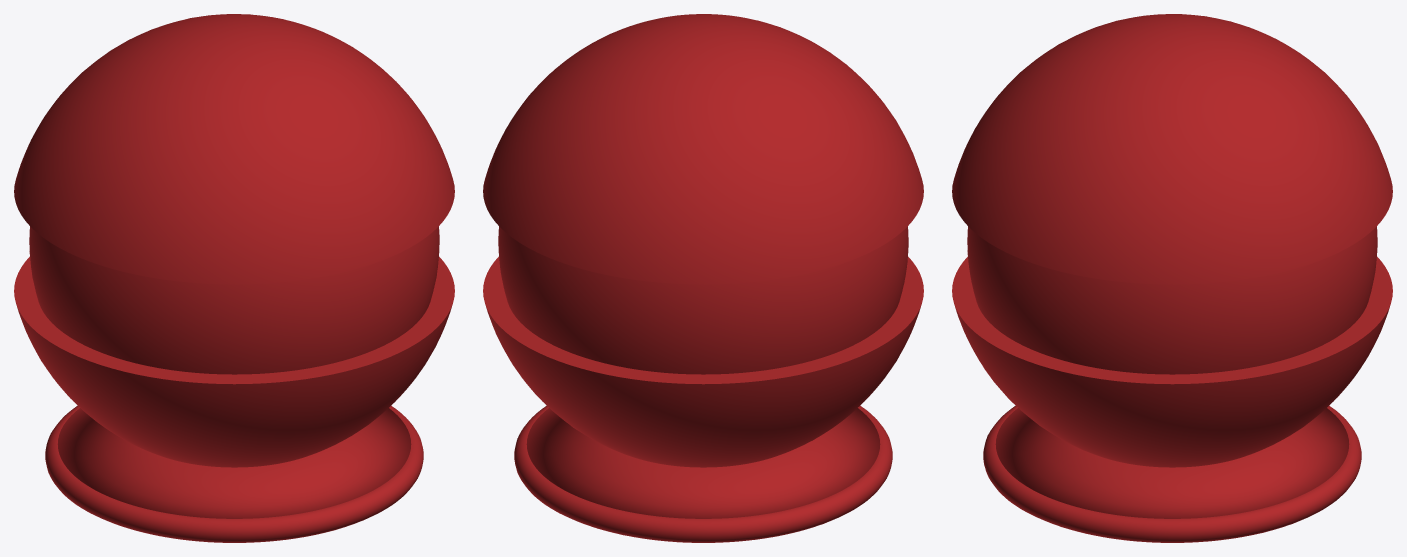
File: layer-coat.glb
3 renders of one model, left to right at view 1: azimuth 30°, elevation 25°; view 2: azimuth 150°, elevation 25°; view 3: azimuth 270°, elevation 25°, orthographic.
Visible parts, largest first — view 1: coat (×2); view 2: coat (×2); view 3: coat (×2).
Boxes of the visible parts, x1,y1,x2,y2 form: coat (×2): (14, 14, 454, 542); coat (×2): (483, 14, 923, 542); coat (×2): (952, 14, 1392, 542).
Size of the model in its own units: 0.6986 by 0.755 by 0.6986.
